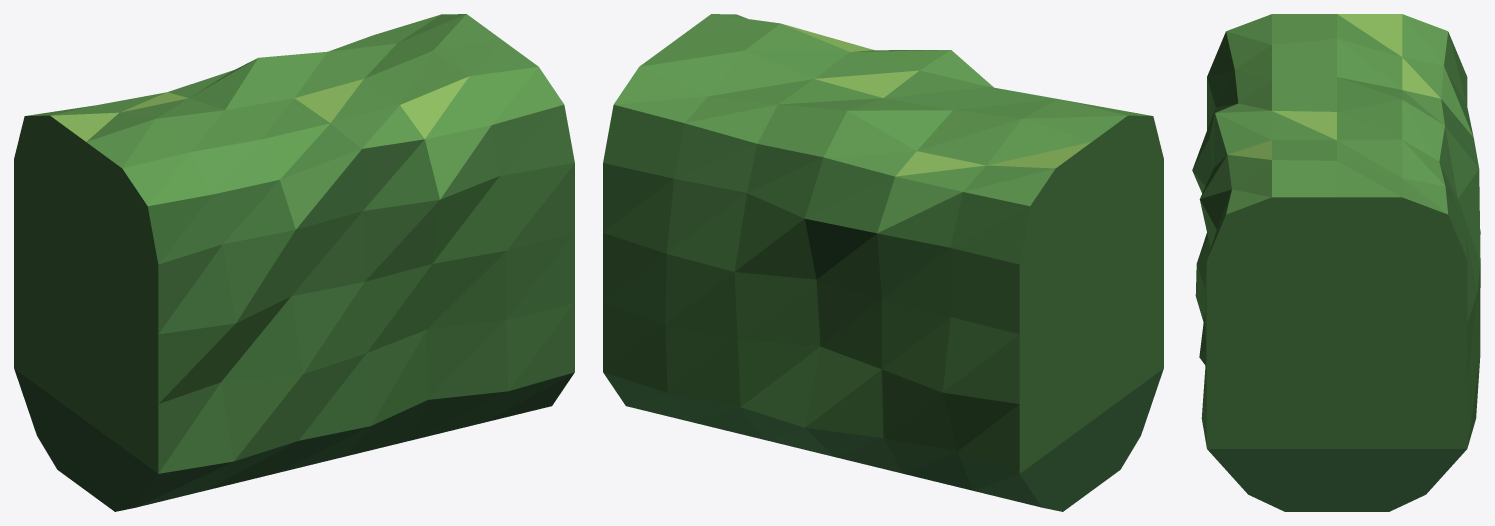
The model's file is SC_Nat_Hedge_Boxwood_1m.gltf.
The picture shows the model from 3 angles, left to right: view 1: azimuth 30°, elevation 25°; view 2: azimuth 150°, elevation 25°; view 3: azimuth 270°, elevation 25°; orthographic projection. The views are drawn at different scales.
Visible parts, largest first — view 1: SC_Nat_Hedge_Boxwood_1m; view 2: SC_Nat_Hedge_Boxwood_1m; view 3: SC_Nat_Hedge_Boxwood_1m.
Part boxes in pixels (bbox=[...]): SC_Nat_Hedge_Boxwood_1m: bbox=[14, 14, 574, 511]; SC_Nat_Hedge_Boxwood_1m: bbox=[603, 14, 1163, 511]; SC_Nat_Hedge_Boxwood_1m: bbox=[1192, 14, 1480, 511].
Size of the model in its own units: 1 by 0.8173 by 0.6651.
Materials: 1 (1 with a texture image).
